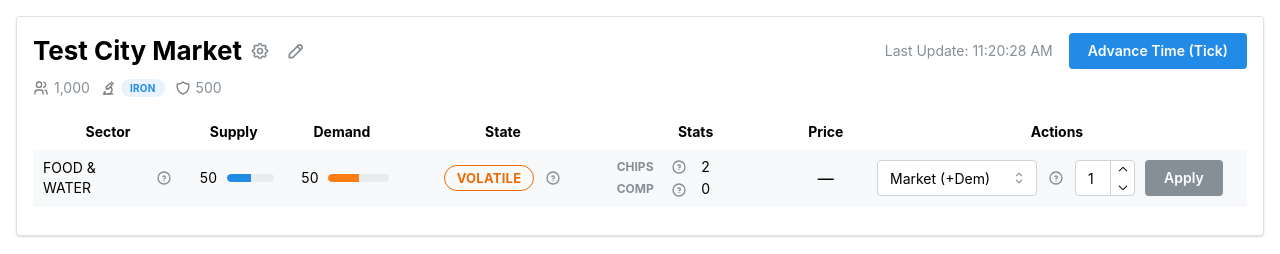
CityDashboard › displays sector definition tooltip on hover
This screenshot has width=1280, height=254.
Step 1. Hover over the button named "Help" next to "FOOD & WATER" → (164, 178), box x1=155 y1=169 x2=173 y2=187
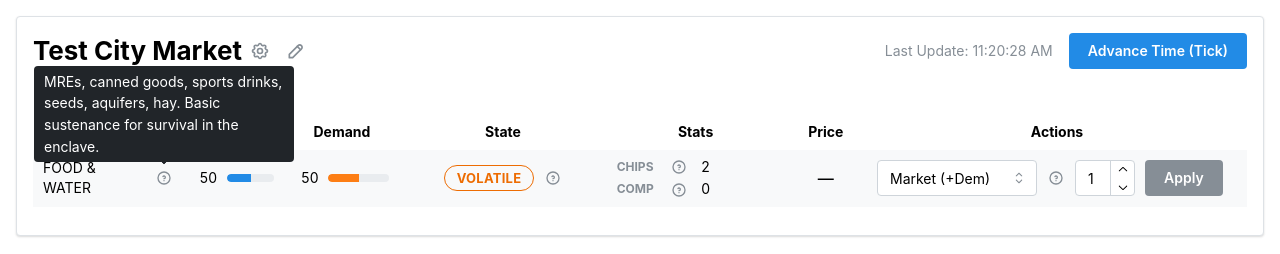
expect the tooltip "MREs, canned goods" is shown: met, box x1=44 y1=73 x2=282 y2=155
